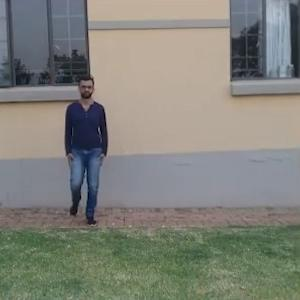follow: (63, 72, 108, 224)
